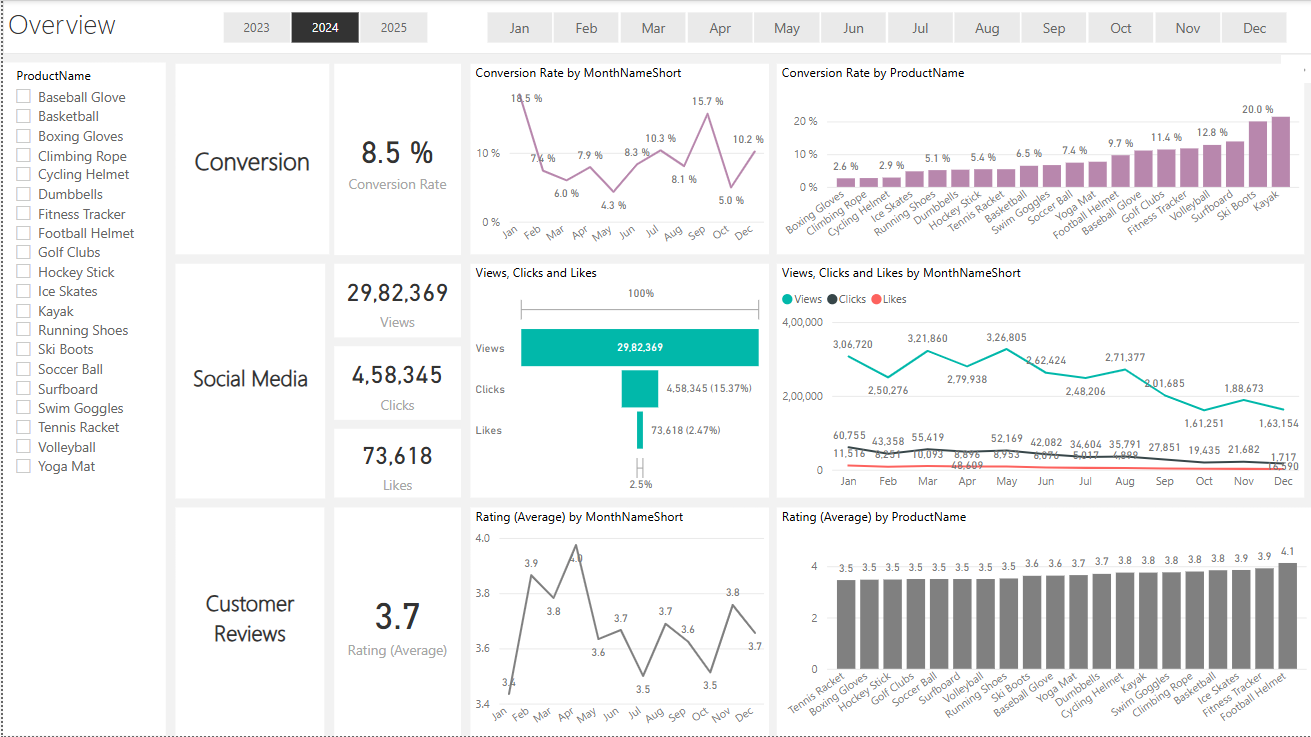

What the dashboard file says about the page in this screenshot:
{"tool":"powerbi","page":{"name":"Overview","canvas":[1280,720],"ordinal":0},"visuals":[{"type":"textbox","box":[0,0,1280,52.6],"z":0},{"type":"slicer","fields":{"Values":["dim_products.ProductName"]},"box":[0,61.6,159.5,658.5],"z":1000},{"type":"card","fields":{"Values":["_Calculations.Conversion Rate"]},"box":[324.1,61.9,123.9,186.8],"z":2000},{"type":"card","fields":{"Values":["_Calculations.Rating (Average)"]},"box":[324.1,496.5,123.9,224],"z":3000},{"type":"lineChart","fields":{"Y":["_Calculations.Conversion Rate"],"Category":["Calendar.MonthNameShort"]},"box":[457.1,61.9,292.3,186.7],"z":4000},{"type":"columnChart","fields":{"Category":["dim_products.ProductName"],"Y":["_Calculations.Conversion Rate"]},"box":[756.7,61.9,516.3,186.7],"z":5000},{"type":"slicer","fields":{"Values":["Calendar.Year"]},"box":[189.4,4.6,249.5,43.7],"z":6000},{"type":"slicer","fields":{"Values":["Calendar.MonthNameShort"]},"box":[448,4.6,832.3,43.7],"z":7000},{"type":"lineChart","fields":{"Y":["_Calculations.Views","_Calculations.Clicks","_Calculations.Likes"],"Category":["Calendar.MonthNameShort"]},"box":[756.6,258.1,516.1,229.2],"z":8000},{"type":"lineChart","fields":{"Category":["Calendar.MonthNameShort"],"Y":["_Calculations.Rating (Average)"]},"box":[457.1,496.3,292.3,224],"z":9000},{"type":"columnChart","fields":{"Category":["dim_products.ProductName"],"Y":["_Calculations.Rating (Average)"]},"box":[756.6,496.5,523.4,224],"z":10000},{"type":"funnel","fields":{"Y":["_Calculations.Views","_Calculations.Clicks","_Calculations.Likes"]},"box":[457.3,258.1,292.1,229.2],"z":11000},{"type":"card","fields":{"Values":["_Calculations.Views"]},"box":[324.2,257.7,123.8,71.9],"z":12000},{"type":"textbox","box":[168.5,61.9,150.3,186.7],"z":13000},{"type":"textbox","box":[168.5,257.7,146.6,229.5],"z":14000},{"type":"textbox","box":[168.5,496.3,145.7,224],"z":15000},{"type":"card","fields":{"Values":["_Calculations.Clicks"]},"box":[324.2,338.8,123.8,71.9],"z":16000},{"type":"card","fields":{"Values":["_Calculations.Likes"]},"box":[324.2,419.8,123.8,67.4],"z":17000}]}

Visuals, with their boxes in screenshot pixels (x1, y1, x2, y2), scaled from the page's 1280x720 canvas onto the 1311x737 screenshot:
textbox: bbox=[0, 0, 1310, 54]
slicer - dim_products.ProductName: bbox=[0, 63, 163, 736]
card - _Calculations.Conversion Rate: bbox=[332, 63, 459, 255]
card - _Calculations.Rating (Average): bbox=[332, 508, 459, 736]
lineChart - _Calculations.Conversion Rate x Calendar.MonthNameShort: bbox=[468, 63, 768, 254]
columnChart - dim_products.ProductName x _Calculations.Conversion Rate: bbox=[775, 63, 1304, 254]
slicer - Calendar.Year: bbox=[194, 5, 450, 49]
slicer - Calendar.MonthNameShort: bbox=[459, 5, 1310, 49]
lineChart - _Calculations.Views x _Calculations.Clicks: bbox=[775, 264, 1304, 499]
lineChart - Calendar.MonthNameShort x _Calculations.Rating (Average): bbox=[468, 508, 768, 736]
columnChart - dim_products.ProductName x _Calculations.Rating (Average): bbox=[775, 508, 1310, 736]
funnel - _Calculations.Views x _Calculations.Clicks: bbox=[468, 264, 768, 499]
card - _Calculations.Views: bbox=[332, 264, 459, 337]
textbox: bbox=[173, 63, 327, 254]
textbox: bbox=[173, 264, 323, 499]
textbox: bbox=[173, 508, 322, 736]
card - _Calculations.Clicks: bbox=[332, 347, 459, 420]
card - _Calculations.Likes: bbox=[332, 430, 459, 499]
